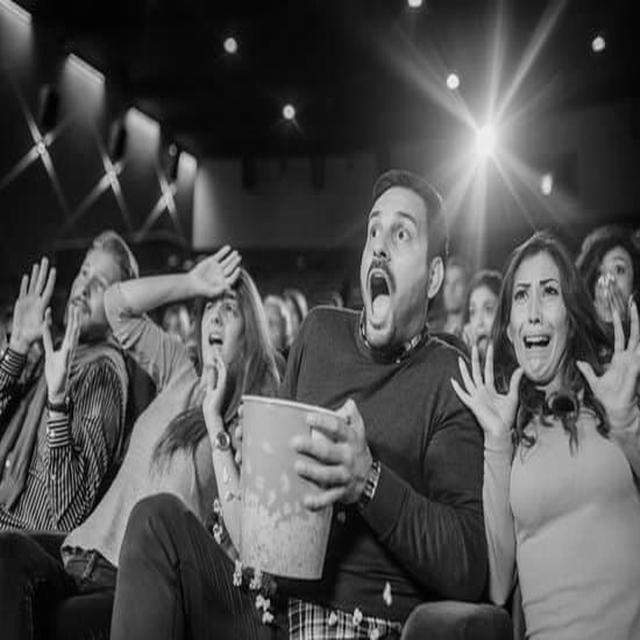Fear: (511, 255, 565, 384)
